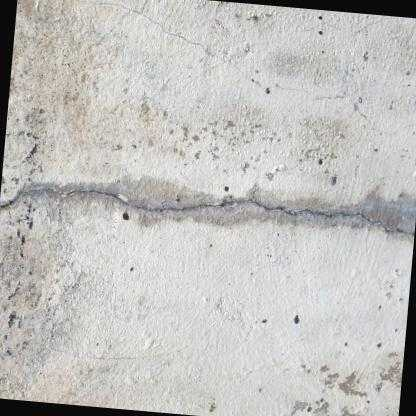crack: (0, 184, 415, 236)
